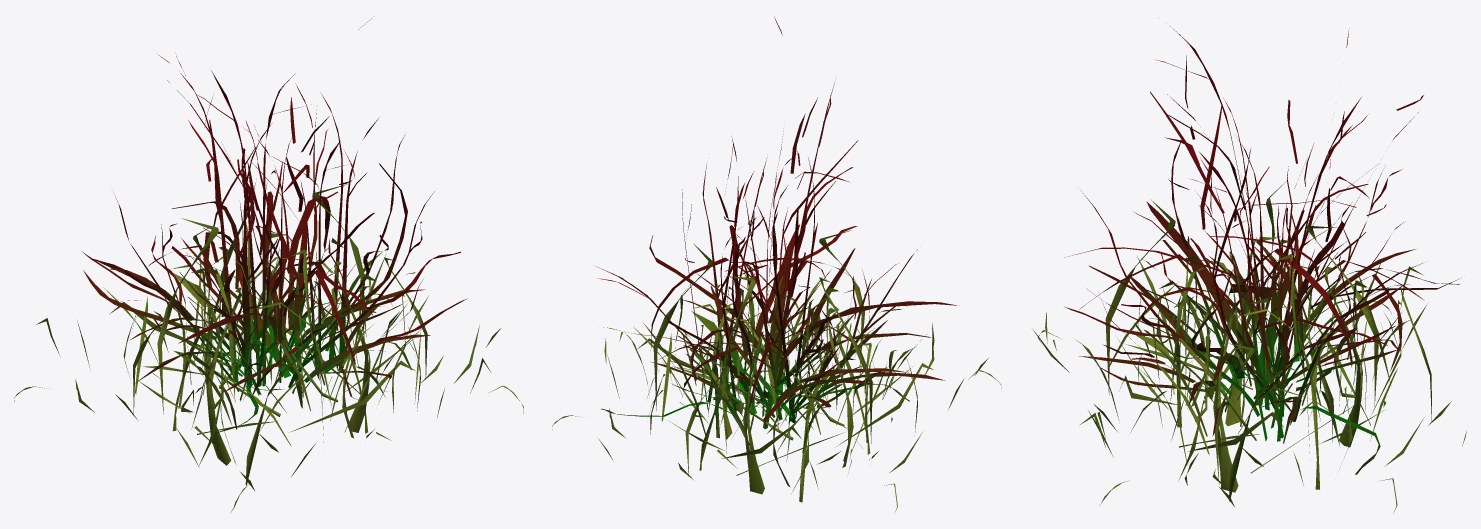
Rendered from grass_wild_clump_dry_01.gltf.
The picture shows the model from 3 angles, left to right: view 1: azimuth 30°, elevation 25°; view 2: azimuth 150°, elevation 25°; view 3: azimuth 270°, elevation 25°; orthographic projection. The views are drawn at different scales.
Parts seen in each view (by area): view 1: Grass Wild Clump Dry 01; view 2: Grass Wild Clump Dry 01; view 3: Grass Wild Clump Dry 01.
Part boxes in pixels (x1,y1,x2,y2): Grass Wild Clump Dry 01: [14, 18, 523, 513]; Grass Wild Clump Dry 01: [552, 17, 1001, 511]; Grass Wild Clump Dry 01: [1033, 26, 1466, 512].
Bounding box in the file's own units: 0.7945 × 0.8175 × 0.681.
Materials: 1 (1 with a texture image).
